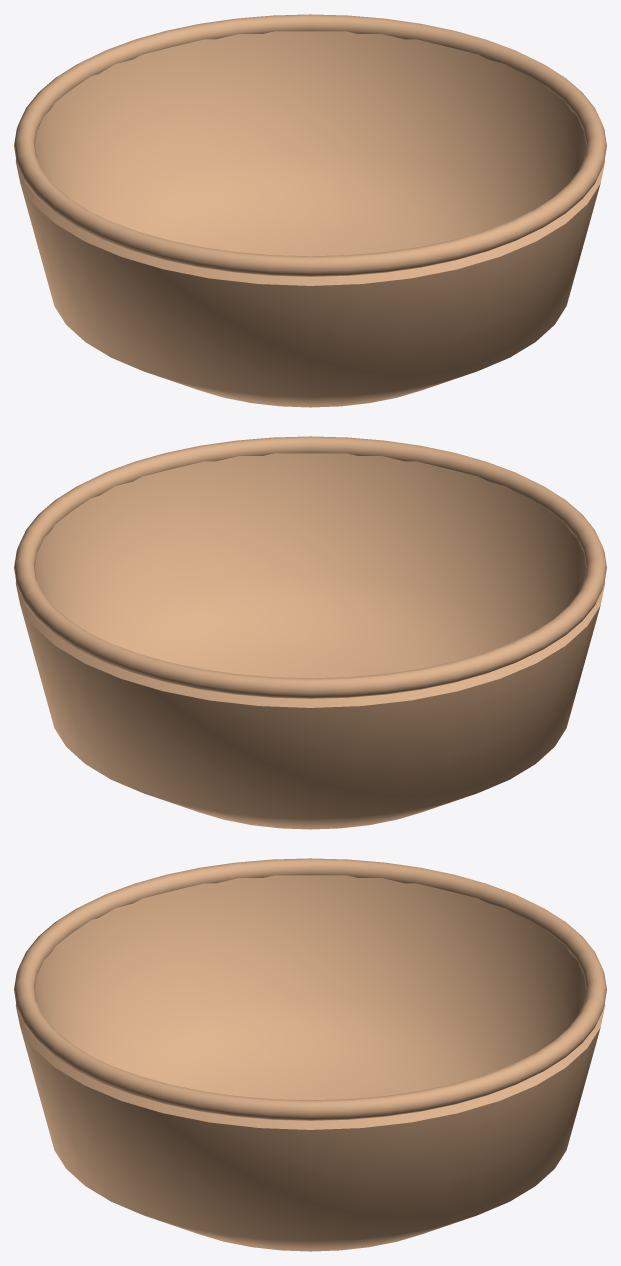
The model's file is chocolate-making-and-confectionery-chocolate-coating-p-6c9cd53e__39162.glb.
3 views of the same model, one above another, from view 1: azimuth 30°, elevation 25°; view 2: azimuth 150°, elevation 25°; view 3: azimuth 270°, elevation 25° (orthographic).
Visible parts, largest first — view 1: chocolate-coating-pan; view 2: chocolate-coating-pan; view 3: chocolate-coating-pan.
Boxes of the visible parts, bbox=[...] form: chocolate-coating-pan: bbox=[14, 14, 606, 407]; chocolate-coating-pan: bbox=[14, 436, 606, 829]; chocolate-coating-pan: bbox=[14, 858, 606, 1251].
Bounding box in the file's own units: 0.684 × 0.2514 × 0.684.
